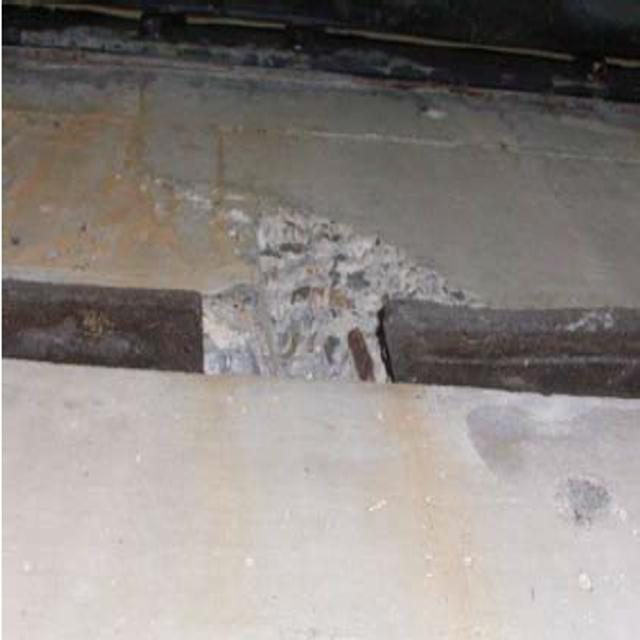spalling: (154, 170, 460, 393)
